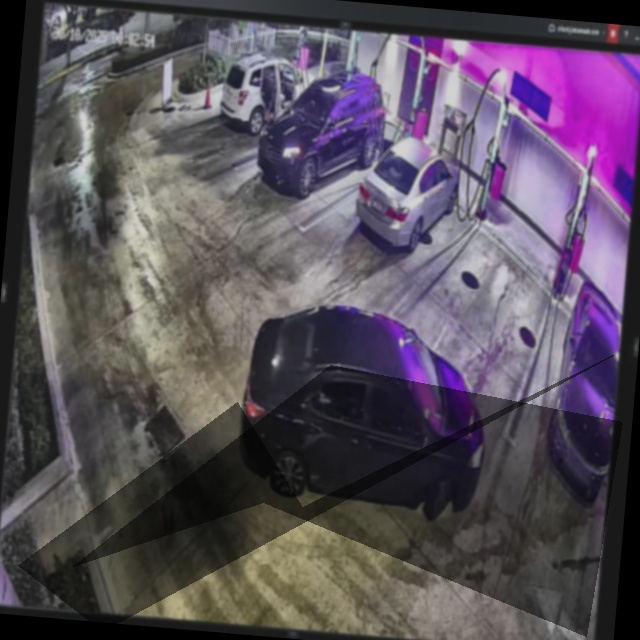Car: (232, 295, 496, 527), (253, 66, 389, 201), (354, 129, 463, 252)
